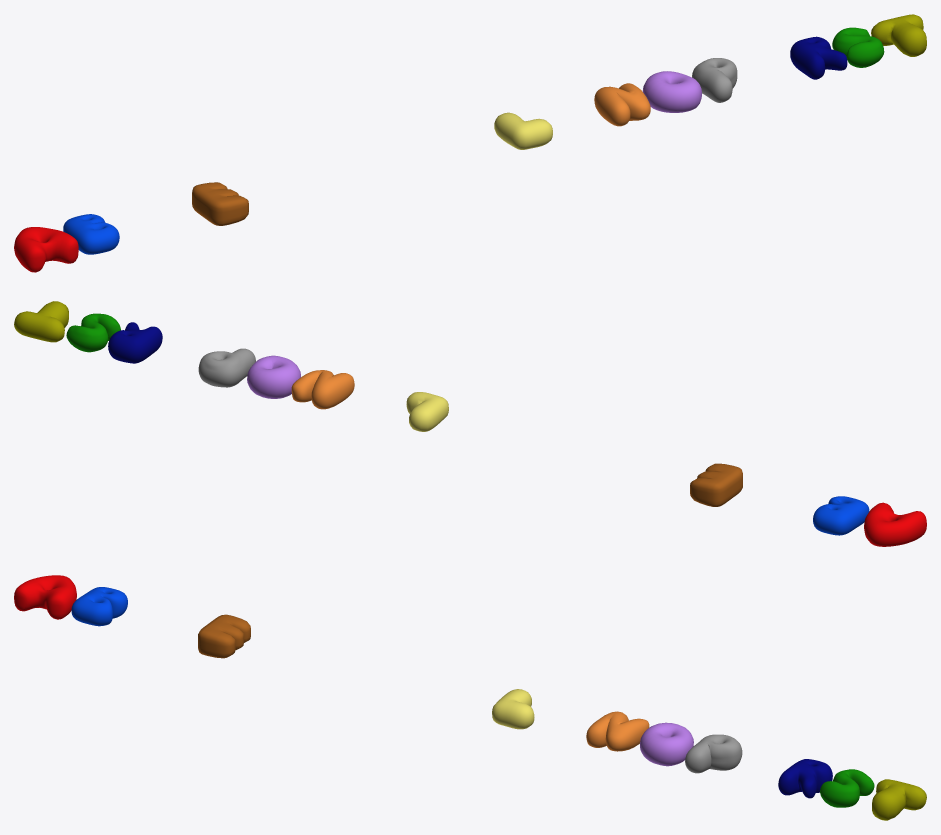
Rendered from Bubble Letters 1.fbx.
3 renders of one model, top to bottom at view 1: azimuth 30°, elevation 25°; view 2: azimuth 150°, elevation 25°; view 3: azimuth 330°, elevation 25°, orthographic. The views are drawn at different scales.
Visible parts, largest first — view 1: A, O, E, N, R, T, B, L, P, S; view 2: A, N, O, E, P, B, T, R, S, L; view 3: A, O, N, E, P, B, T, R, S, L.
Boxes of the visible parts, bbox=[...] form: A: bbox=[14, 227, 78, 272]; O: bbox=[642, 71, 701, 112]; E: bbox=[192, 182, 248, 225]; N: bbox=[594, 83, 650, 126]; R: bbox=[790, 36, 847, 79]; T: bbox=[871, 14, 926, 56]; B: bbox=[63, 214, 119, 254]; L: bbox=[494, 112, 552, 149]; P: bbox=[692, 58, 737, 102]; S: bbox=[832, 27, 884, 67]; A: bbox=[864, 502, 926, 546]; N: bbox=[291, 370, 354, 409]; O: bbox=[247, 355, 300, 398]; E: bbox=[690, 463, 742, 506]; P: bbox=[198, 348, 255, 387]; B: bbox=[813, 496, 869, 535]; T: bbox=[14, 301, 68, 342]; R: bbox=[108, 322, 162, 363]; S: bbox=[66, 313, 120, 352]; L: bbox=[406, 392, 448, 431]; A: bbox=[14, 575, 76, 619]; O: bbox=[640, 722, 693, 766]; N: bbox=[586, 711, 649, 751]; E: bbox=[198, 614, 250, 658]; P: bbox=[685, 734, 742, 773]; B: bbox=[71, 587, 127, 626]; T: bbox=[872, 779, 926, 820]; R: bbox=[778, 759, 832, 798]; S: bbox=[820, 769, 874, 807]; L: bbox=[492, 689, 534, 729].
Size of the model in its own units: 1736 by 53.79 by 102.
